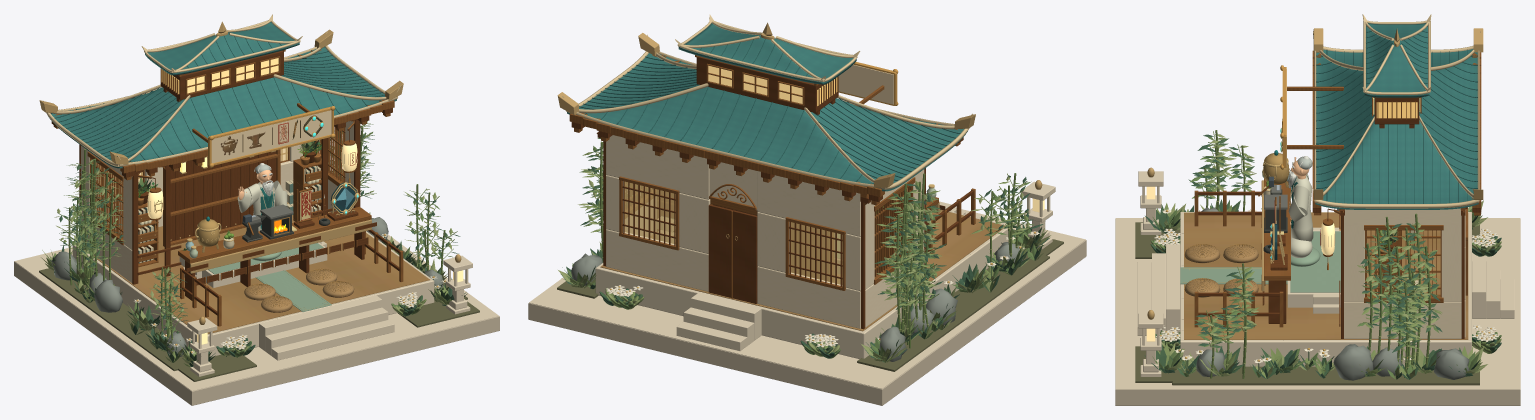
The model's file is arts-r6-v24.glb.
3 renders of one model, left to right at view 1: azimuth 30°, elevation 25°; view 2: azimuth 150°, elevation 25°; view 3: azimuth 270°, elevation 25°, orthographic. The views are drawn at different scales.
Parts seen in each view (by area): view 1: SM_AR6_MAT_AR6_RoofPatina.007, SM_AR6_MAT_AR6_CutStone.007, SM_AR6_MAT_AR6_TimberTrim.015, SM_AR6_MAT_AR6_WarmTimber.014, SM_AR6_MAT_AR6_FloorWood.007, SM_AR6_MAT_AR6_Foundation.007, SM_AR6_MAT_AR6_BambooCulm.007, SM_AR6_MAT_AR6_RoofCreamEdge.014, SM_AR6_MAT_AR6_GardenSoil.007, SM_AR6_MAT_AR6_Plaster.007, SM_AR6_MAT_AR6_PanelFoldShadow.007, SM_AR6_MAT_AR6_AgedGold.015 (+20 smaller); view 2: SM_AR6_MAT_AR6_RoofPatina.007, SM_AR6_MAT_AR6_Plaster.007, SM_AR6_MAT_AR6_CutStone.007, SM_AR6_MAT_AR6_TimberTrim.015, SM_AR6_MAT_AR6_Foundation.007, SM_AR6_MAT_AR6_WarmTimber.014, SM_AR6_MAT_AR6_RoofCreamEdge.014, SM_AR6_MAT_AR6_PanelFoldShadow.007, SM_AR6_MAT_AR6_RearWarmPaperGlass.004, SM_AR6_MAT_AR6_BambooCulm.007, SM_AR6_MAT_AR6_GardenSoil.007, SM_AR6_MAT_AR6_PaperFoliage2.007 (+13 smaller); view 3: SM_AR6_MAT_AR6_RoofPatina.007, SM_AR6_MAT_AR6_CutStone.007, SM_AR6_MAT_AR6_FloorWood.007, SM_AR6_MAT_AR6_Plaster.007, SM_AR6_MAT_AR6_Foundation.007, SM_AR6_MAT_AR6_TimberTrim.015, SM_AR6_MAT_AR6_GardenSoil.007, SM_AR6_MAT_AR6_RoofCreamEdge.014, SM_AR6_MAT_AR6_BambooCulm.007, SM_AR6_MAT_AR6_PaperFoliage1.007, SM_AR6_MAT_AR6_PaperFoliage3.007, SM_AR6_MAT_AR6_PaperFoliage0.007 (+19 smaller).
Boxes of the visible parts, x1=… form: SM_AR6_MAT_AR6_RoofPatina.007: x1=48, y1=22, x2=396, y2=168; SM_AR6_MAT_AR6_CutStone.007: x1=14, y1=231, x2=499, y2=391; SM_AR6_MAT_AR6_TimberTrim.015: x1=53, y1=49, x2=403, y2=326; SM_AR6_MAT_AR6_WarmTimber.014: x1=51, y1=88, x2=400, y2=315; SM_AR6_MAT_AR6_FloorWood.007: x1=84, y1=202, x2=429, y2=334; SM_AR6_MAT_AR6_Foundation.007: x1=14, y1=261, x2=499, y2=405; SM_AR6_MAT_AR6_BambooCulm.007: x1=57, y1=123, x2=457, y2=340; SM_AR6_MAT_AR6_RoofCreamEdge.014: x1=43, y1=14, x2=400, y2=166; SM_AR6_MAT_AR6_GardenSoil.007: x1=39, y1=239, x2=479, y2=381; SM_AR6_MAT_AR6_Plaster.007: x1=81, y1=121, x2=353, y2=282; SM_AR6_MAT_AR6_PanelFoldShadow.007: x1=50, y1=36, x2=384, y2=162; SM_AR6_MAT_AR6_AgedGold.015: x1=39, y1=29, x2=461, y2=324; SM_AR6_MAT_AR6_RoofPatina.007: x1=567, y1=23, x2=967, y2=191; SM_AR6_MAT_AR6_Plaster.007: x1=606, y1=135, x2=924, y2=328; SM_AR6_MAT_AR6_CutStone.007: x1=529, y1=181, x2=1085, y2=388; SM_AR6_MAT_AR6_TimberTrim.015: x1=569, y1=55, x2=975, y2=290; SM_AR6_MAT_AR6_Foundation.007: x1=528, y1=240, x2=1086, y2=405; SM_AR6_MAT_AR6_WarmTimber.014: x1=571, y1=99, x2=973, y2=329; SM_AR6_MAT_AR6_RoofCreamEdge.014: x1=562, y1=14, x2=973, y2=189; SM_AR6_MAT_AR6_PanelFoldShadow.007: x1=579, y1=39, x2=960, y2=184; SM_AR6_MAT_AR6_RearWarmPaperGlass.004: x1=624, y1=181, x2=842, y2=284; SM_AR6_MAT_AR6_BambooCulm.007: x1=589, y1=142, x2=1031, y2=348; SM_AR6_MAT_AR6_GardenSoil.007: x1=557, y1=229, x2=1063, y2=371; SM_AR6_MAT_AR6_PaperFoliage2.007: x1=570, y1=147, x2=1047, y2=362; SM_AR6_MAT_AR6_RoofPatina.007: x1=1315, y1=23, x2=1478, y2=209; SM_AR6_MAT_AR6_CutStone.007: x1=1115, y1=171, x2=1520, y2=389; SM_AR6_MAT_AR6_FloorWood.007: x1=1184, y1=212, x2=1468, y2=339; SM_AR6_MAT_AR6_Plaster.007: x1=1344, y1=208, x2=1465, y2=338; SM_AR6_MAT_AR6_Foundation.007: x1=1115, y1=219, x2=1520, y2=405; SM_AR6_MAT_AR6_TimberTrim.015: x1=1194, y1=50, x2=1481, y2=327; SM_AR6_MAT_AR6_GardenSoil.007: x1=1135, y1=222, x2=1479, y2=385; SM_AR6_MAT_AR6_RoofCreamEdge.014: x1=1313, y1=14, x2=1480, y2=208; SM_AR6_MAT_AR6_BambooCulm.007: x1=1200, y1=130, x2=1435, y2=378; SM_AR6_MAT_AR6_PaperFoliage1.007: x1=1151, y1=134, x2=1501, y2=378; SM_AR6_MAT_AR6_PaperFoliage3.007: x1=1144, y1=134, x2=1501, y2=379; SM_AR6_MAT_AR6_PaperFoliage0.007: x1=1150, y1=138, x2=1497, y2=378.
Size of the model in its own units: 10 by 7.97 by 10.
81 materials, 10 textured.
